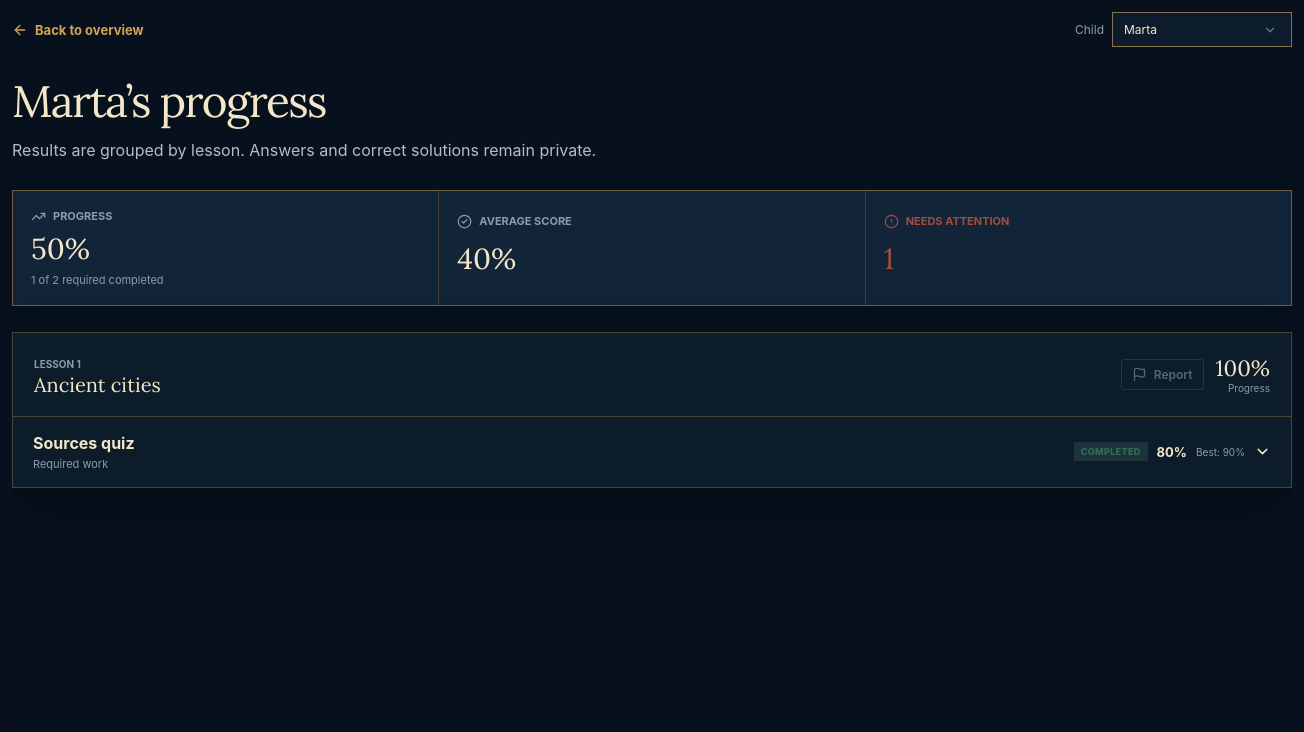
Test: Parent learning dashboard › groups tests by lesson and reveals only safe attempt history
Expected: the heading "Ancient cities" is shown, 34,372 -> 161,397
Click the text "Sources quiz". click: [84, 443]
box: 33,433 -> 135,453
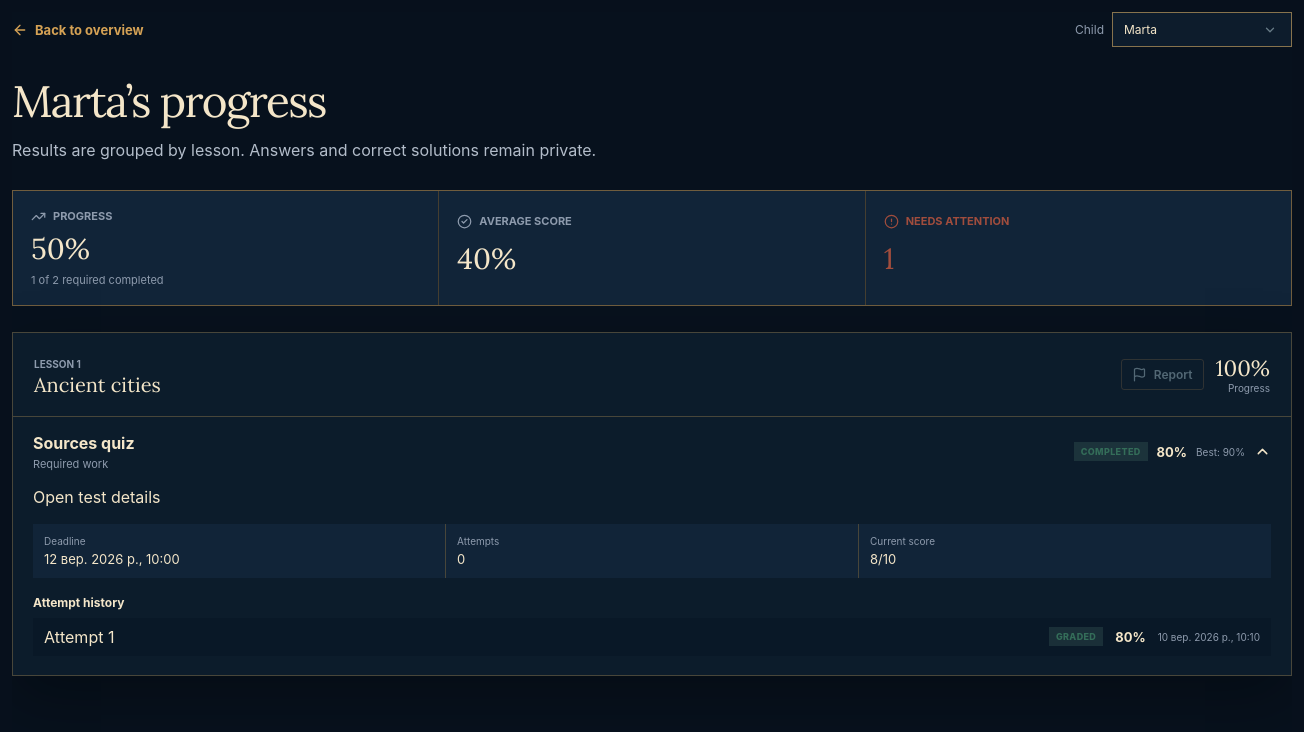
Now the heading "Attempt history" is shown, box 33,595 -> 124,610
Now the text "Attempt 1" is shown, box 44,627 -> 114,647
